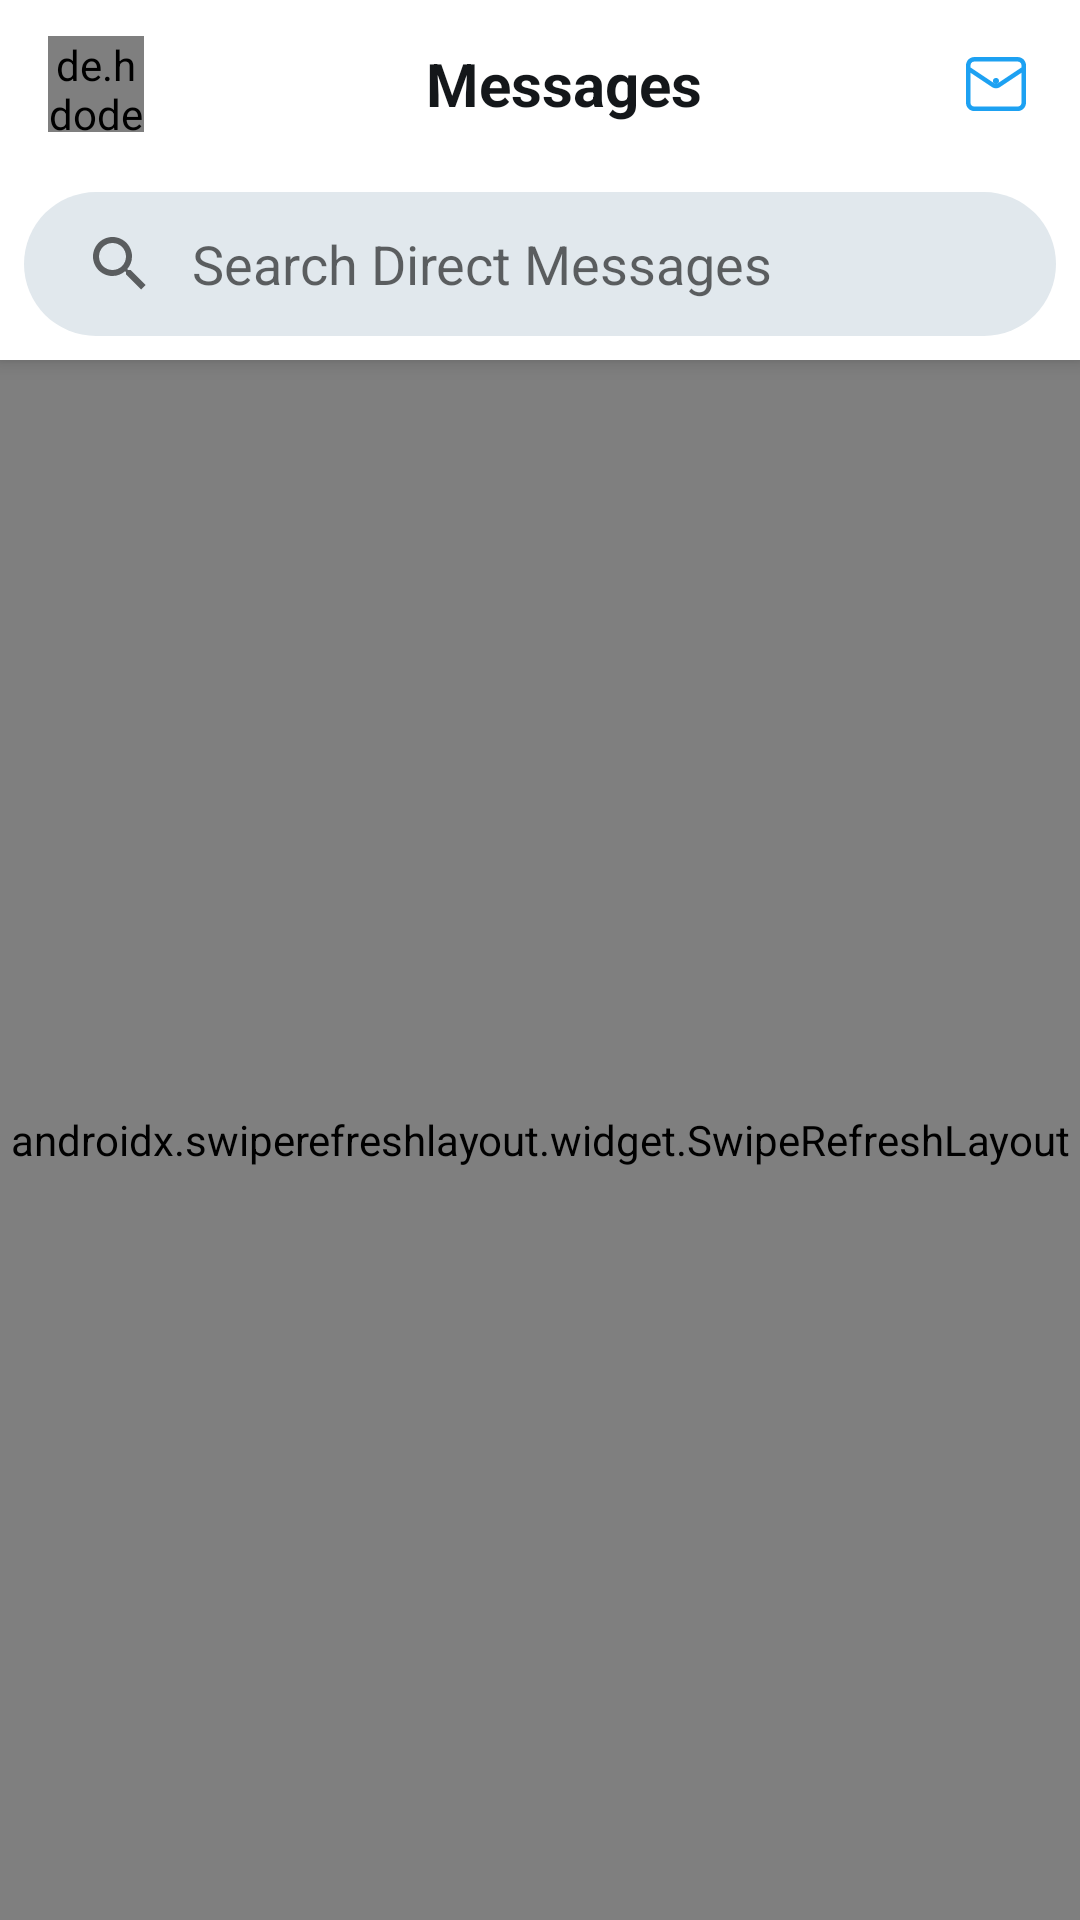

Locate icon controls on the screen. Image size 1080 × 1920, boxes as rect(x1, y1, x2, y2).
message: rect(966, 57, 1026, 111)
